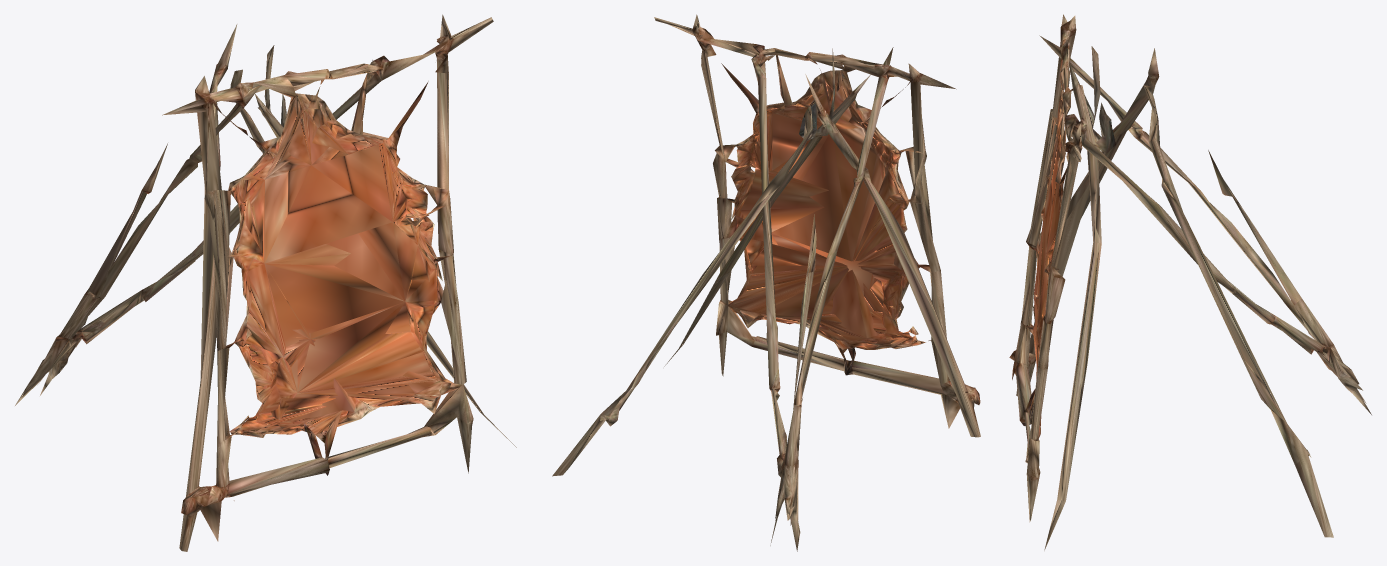
Rendered from fellgestell.glb.
3 views of the same model, side by side, from view 1: azimuth 30°, elevation 25°; view 2: azimuth 150°, elevation 25°; view 3: azimuth 270°, elevation 25° (orthographic). The views are drawn at different scales.
Bounding box in the file's own units: 1.58 × 1.89 × 1.53.
Materials: 1 (1 with a texture image).
